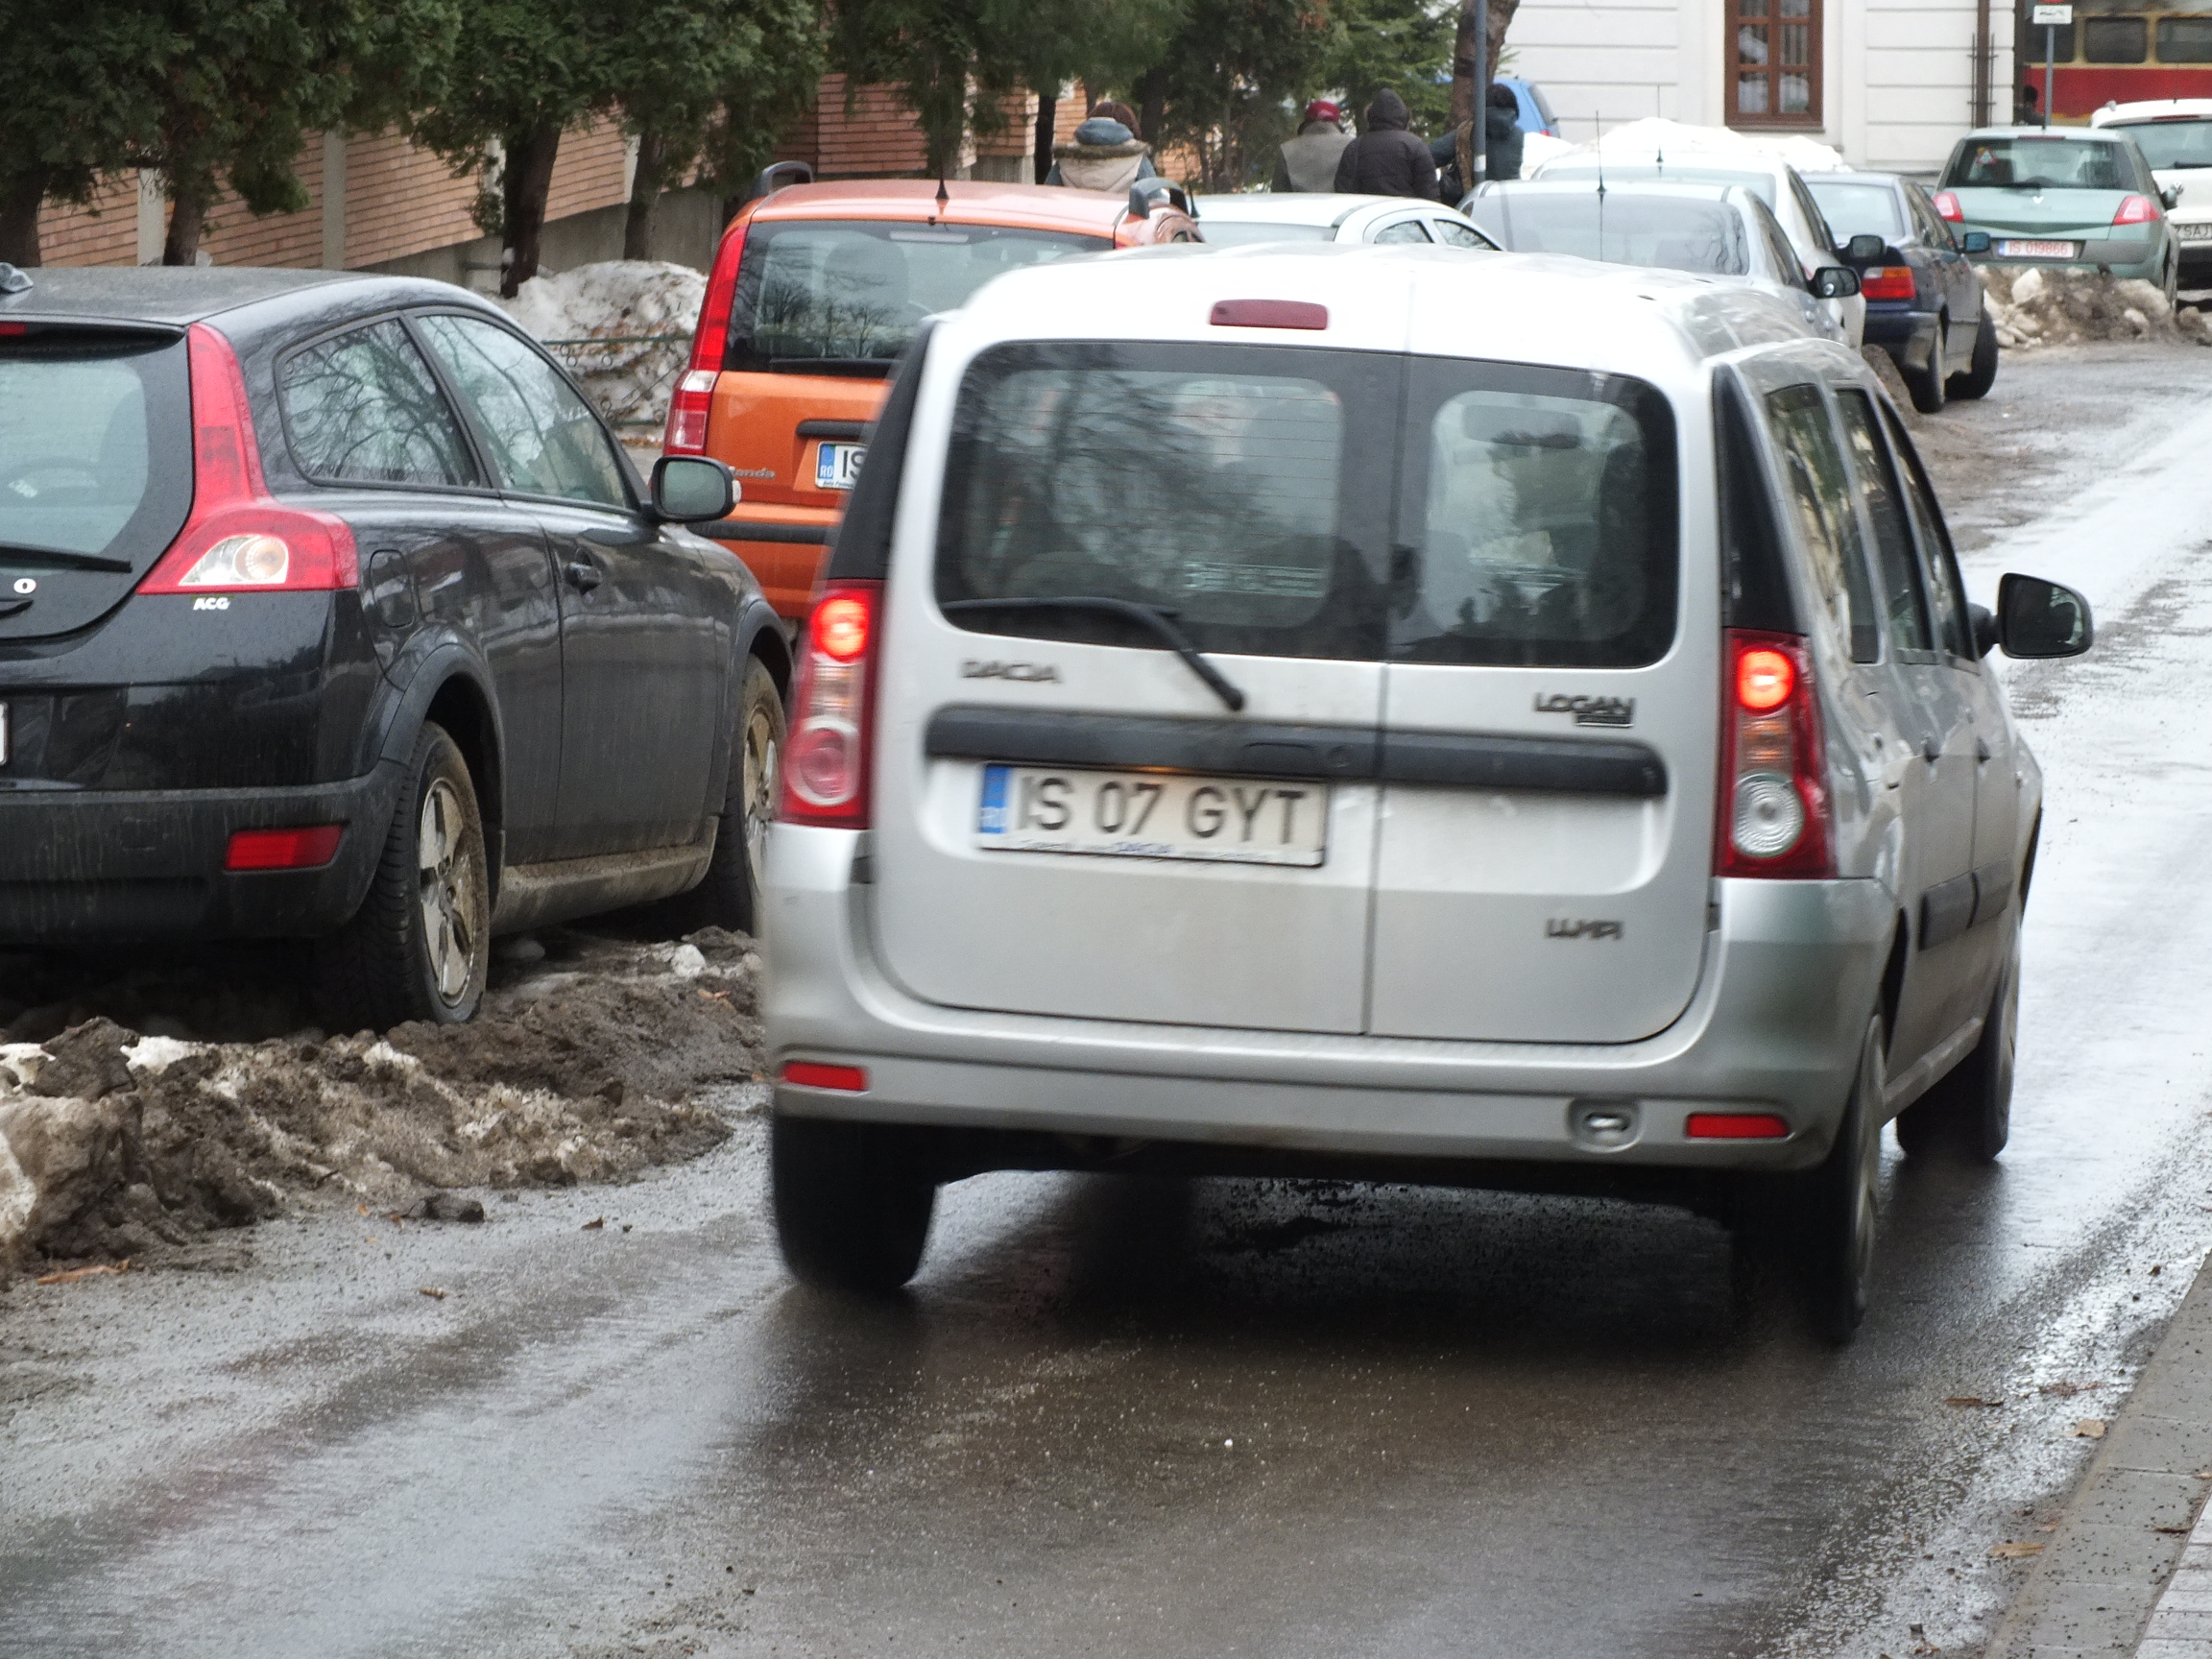IS07GYT: (978, 772, 1315, 853)
